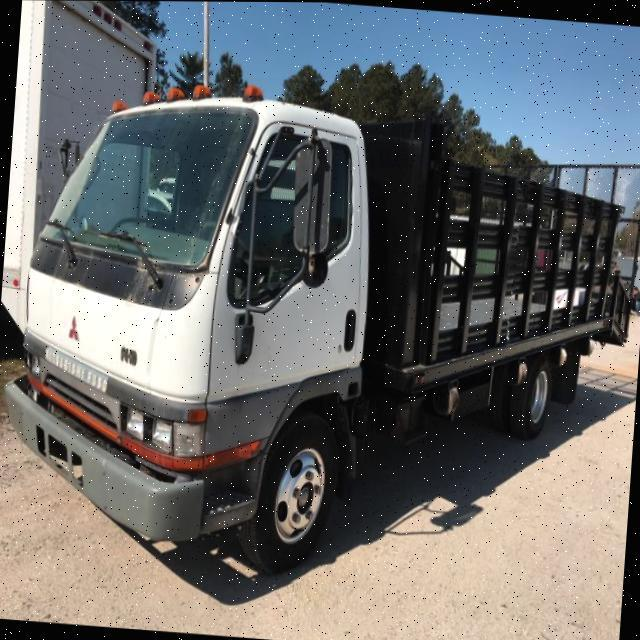truck: (0, 60, 640, 600)
